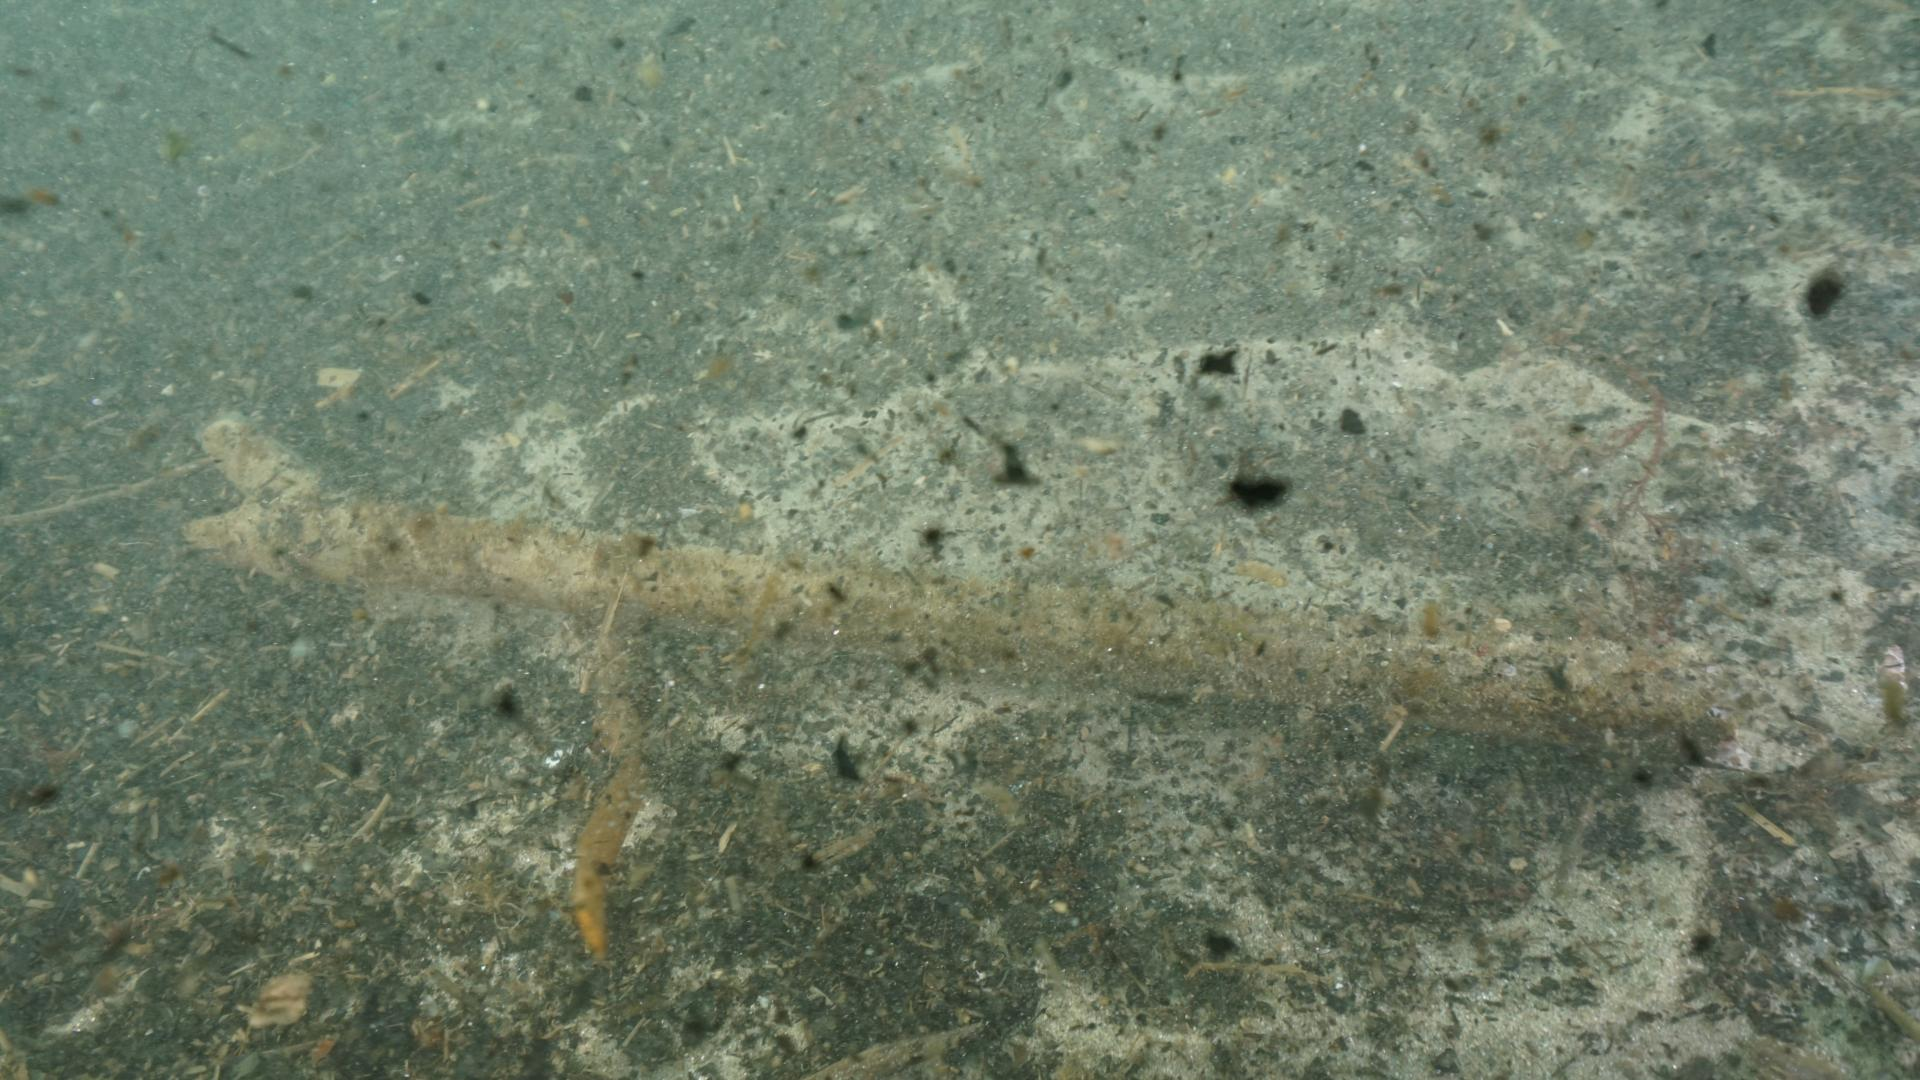wood: (187, 411, 1731, 740)
